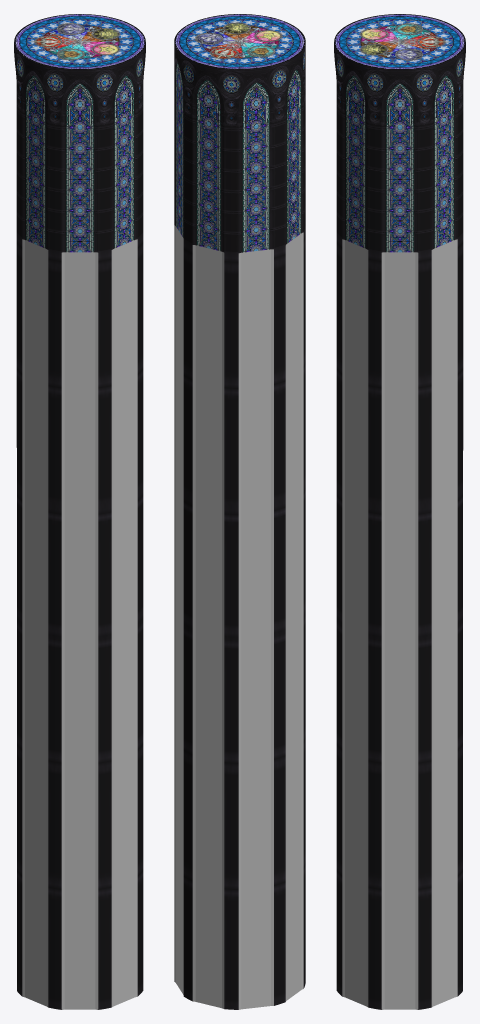
Rendered from oldstation_of_awakening.obj.
3 views of the same model, side by side, from view 1: azimuth 90°, elevation 25°; view 2: azimuth 150°, elevation 25°; view 3: azimuth 270°, elevation 25° (orthographic).
Visible parts, largest first — view 1: platform, glass; view 2: platform, glass; view 3: platform, glass.
Part boxes in pixels (left/top/right/bottom): platform: left=14, top=42, right=145, bottom=1009; glass: left=14, top=14, right=145, bottom=252; platform: left=174, top=44, right=305, bottom=1009; glass: left=174, top=14, right=305, bottom=252; platform: left=334, top=42, right=465, bottom=1009; glass: left=334, top=14, right=465, bottom=252.
Size of the model in its own units: 16 by 126 by 16.
